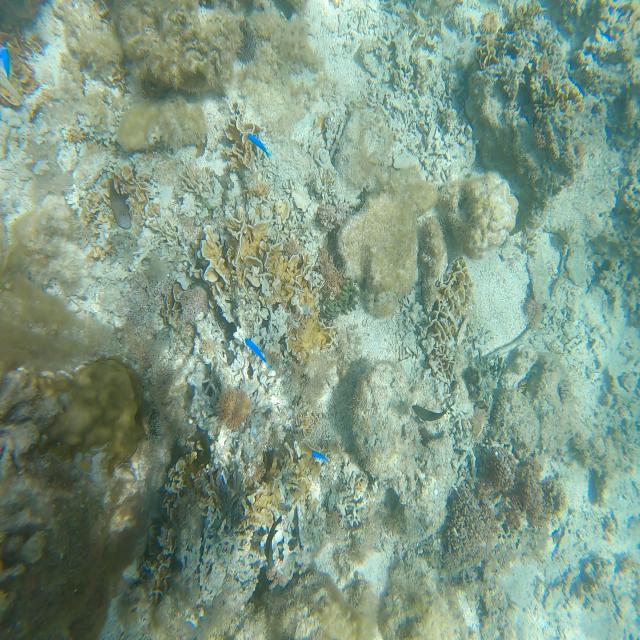kurohagi: (412, 404, 450, 421)
rurisuzumedai: (244, 338, 266, 364), (248, 133, 270, 156), (0, 46, 10, 77), (312, 451, 327, 460)
